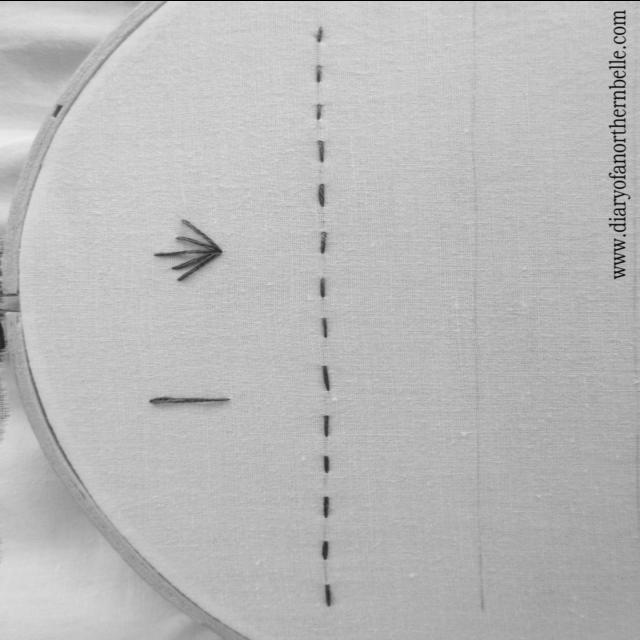stitch: (150, 396, 230, 402), (318, 230, 328, 252), (322, 365, 330, 390), (318, 276, 327, 298), (317, 182, 325, 206), (320, 316, 328, 338), (317, 139, 325, 161), (322, 495, 330, 516), (325, 584, 332, 606), (323, 414, 330, 436), (322, 540, 330, 559), (315, 102, 323, 119), (315, 64, 323, 81), (315, 26, 323, 41), (323, 455, 330, 472)
